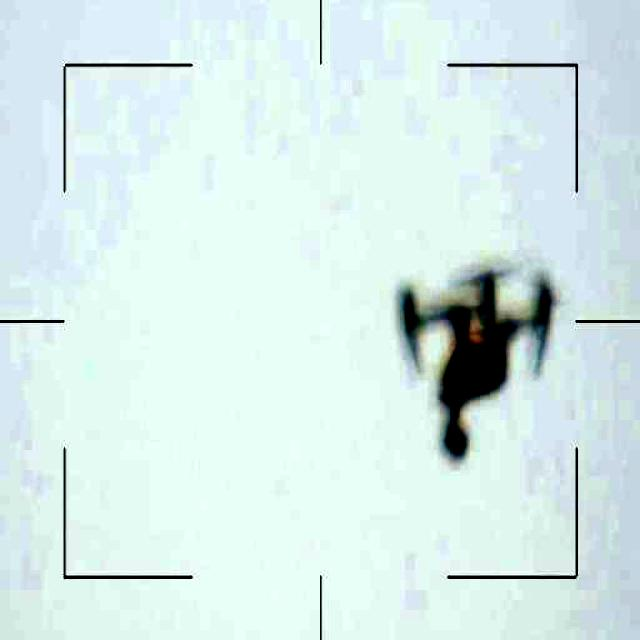bird: (391, 265, 590, 465)
